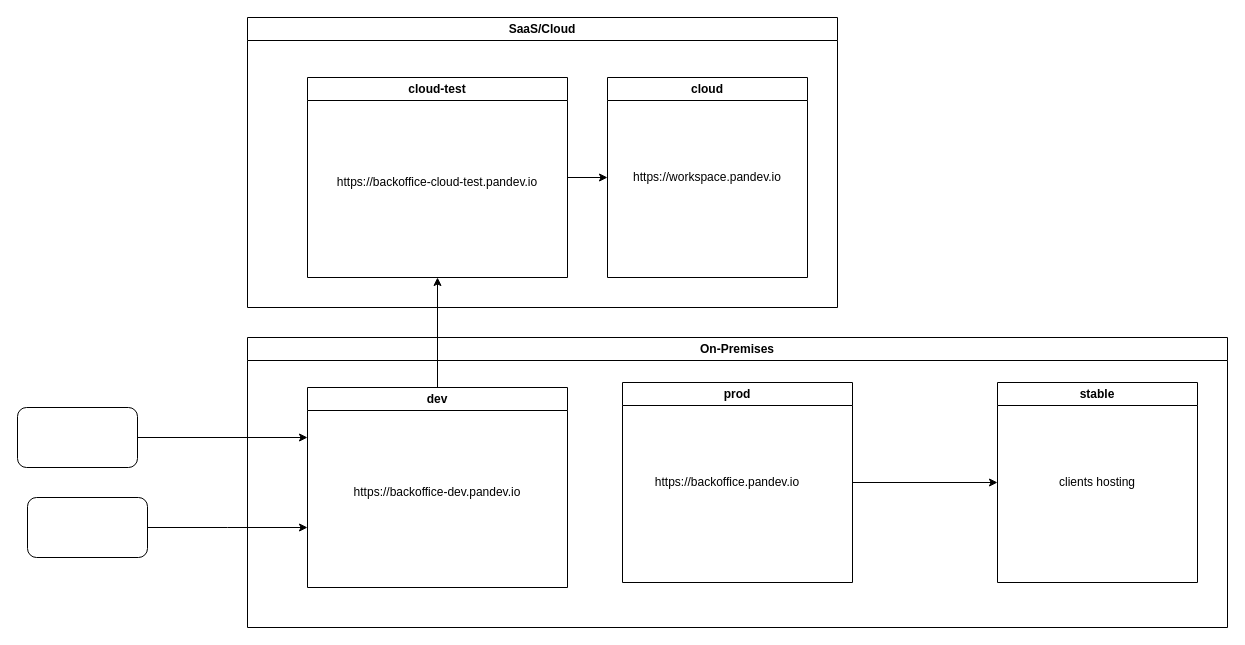
This 1245x645 diagram has some shape labels left out. The centre of each missing label's shape, as x and y in pixels:
"bugfix/PDM-XX" goes at [87,527].
"feature/PDM-XX" goes at [77,437].
